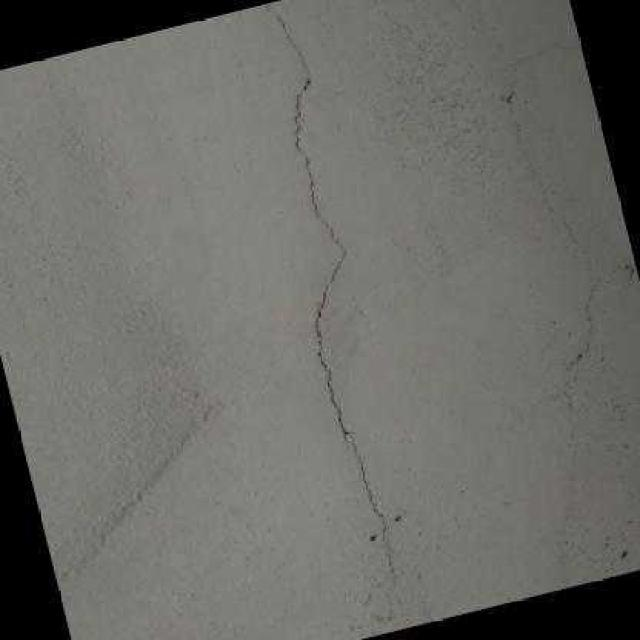D00: (280, 17, 396, 585)
